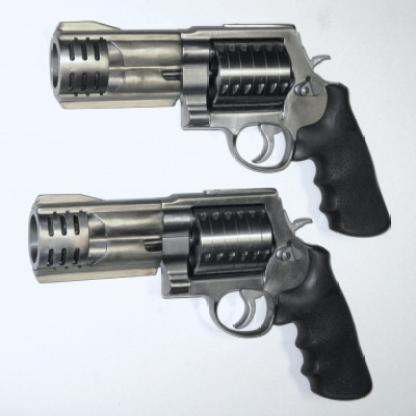Guns: (23, 11, 392, 405)
